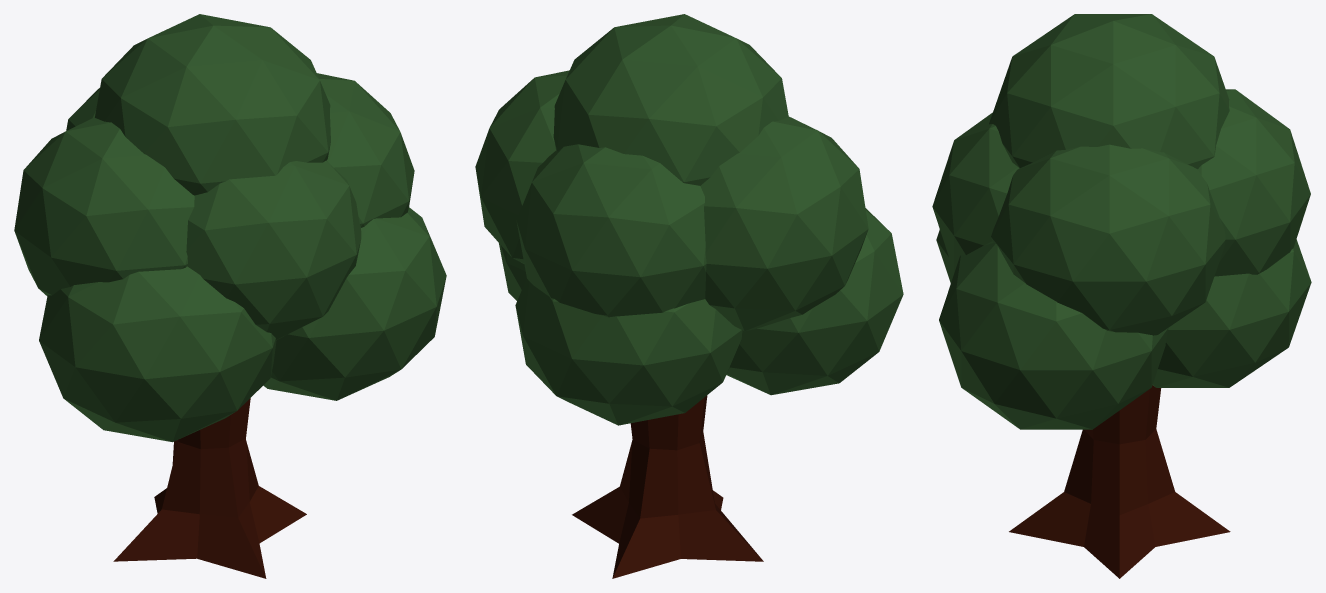
File: tree.fbx
The picture shows the model from 3 angles, left to right: view 1: azimuth 30°, elevation 25°; view 2: azimuth 150°, elevation 25°; view 3: azimuth 270°, elevation 25°; orthographic projection.
Visible parts, largest first — view 1: Clump_Upper_Right; view 2: Clump_Upper_Right; view 3: Clump_Upper_Right.
Boxes of the visible parts, bbox=[...] form: Clump_Upper_Right: bbox=[14, 14, 446, 578]; Clump_Upper_Right: bbox=[475, 14, 903, 578]; Clump_Upper_Right: bbox=[932, 14, 1311, 578].
Size of the model in its own units: 338 by 446 by 300.
